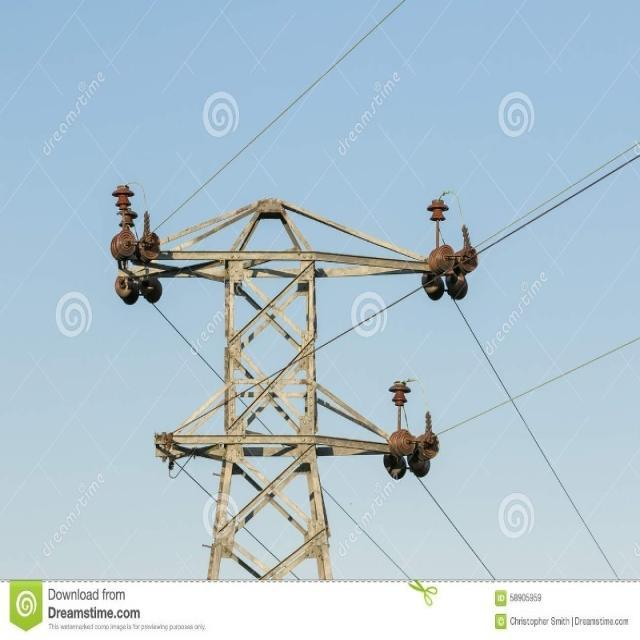non-critical vegetation: (88, 180, 483, 568)
